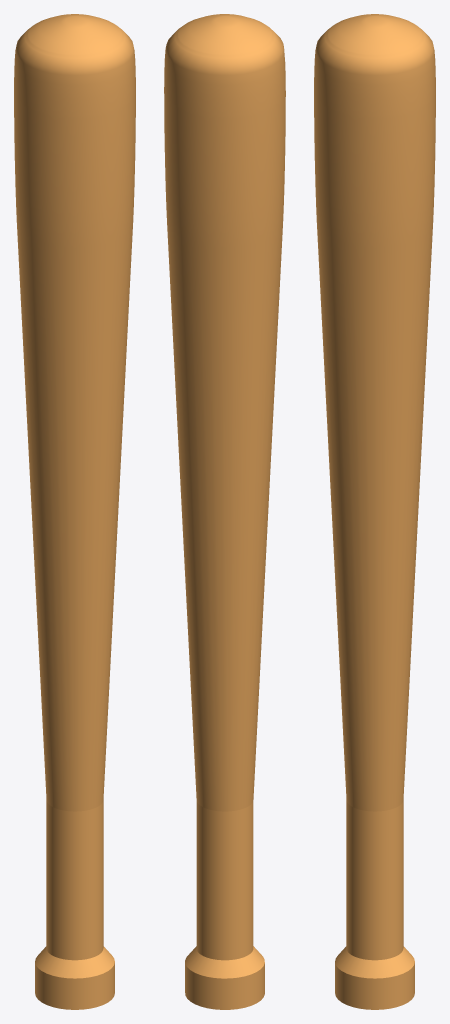
The model's file is gun_1_1.fbx.
3 views of the same model, side by side, from view 1: azimuth 90°, elevation 25°; view 2: azimuth 210°, elevation 25°; view 3: azimuth 270°, elevation 25° (orthographic).
Visible parts, largest first — view 1: gun_1_1; view 2: gun_1_1; view 3: gun_1_1.
Boxes of the visible parts, x1,y1,x2,y2 form: gun_1_1: (14, 14, 135, 1009); gun_1_1: (164, 14, 285, 1009); gun_1_1: (314, 14, 435, 1009).
Size of the model in its own units: 427 by 3761 by 427.
